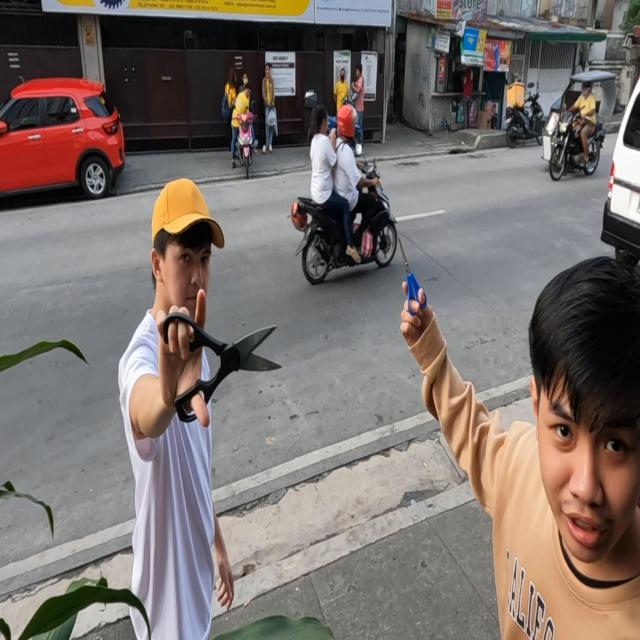scissor: (162, 311, 283, 424), (398, 237, 427, 314)
